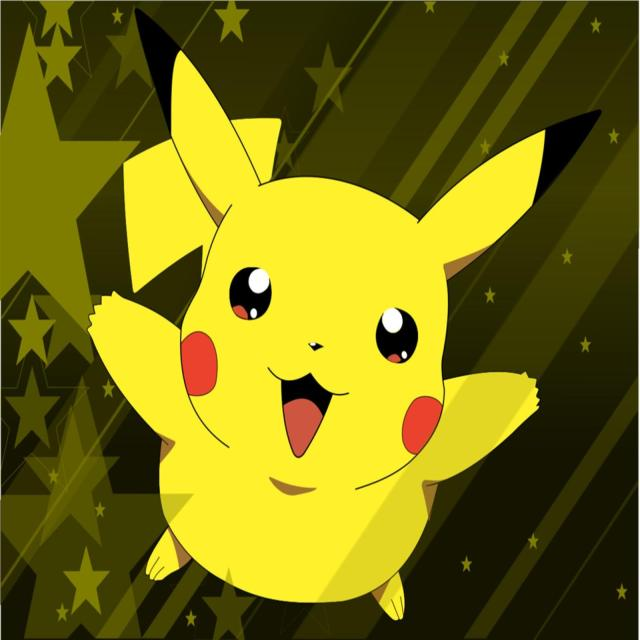pikachu: (88, 3, 618, 624)
